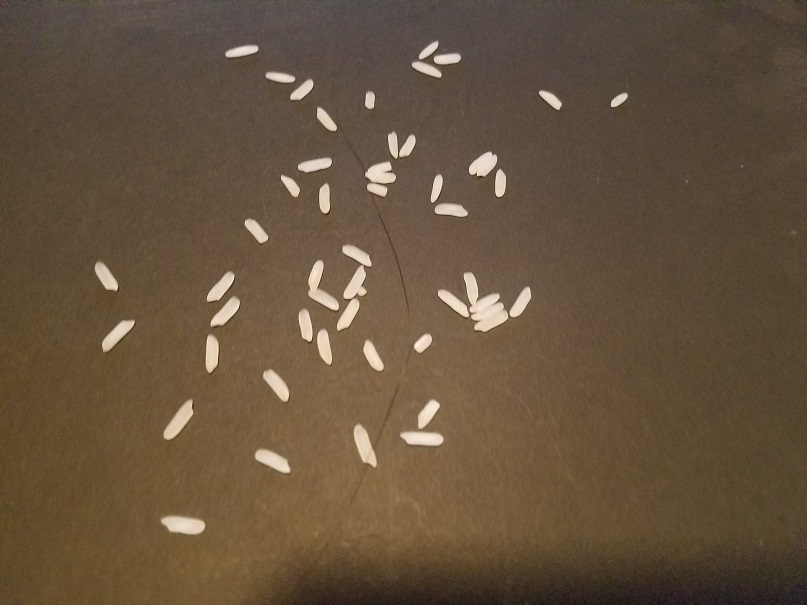egg: (164, 399, 197, 443), (351, 423, 381, 468), (205, 269, 239, 304), (101, 318, 136, 351), (209, 295, 242, 330), (436, 286, 470, 319), (254, 446, 294, 474), (261, 367, 292, 400), (413, 395, 442, 430), (334, 297, 361, 334), (338, 241, 375, 268), (472, 309, 509, 336), (92, 259, 122, 292), (358, 337, 387, 371), (163, 514, 209, 535), (398, 431, 449, 449), (306, 288, 341, 314), (509, 284, 536, 317), (342, 266, 369, 299), (468, 291, 503, 315), (465, 148, 496, 175), (471, 301, 508, 323), (243, 217, 273, 244), (316, 326, 336, 366), (313, 104, 339, 134), (297, 154, 333, 174), (409, 60, 445, 80), (461, 270, 482, 304), (289, 76, 315, 103), (394, 131, 421, 157), (538, 88, 565, 113), (433, 202, 470, 220), (306, 258, 326, 291), (295, 306, 313, 342), (224, 41, 260, 59), (476, 152, 501, 177), (279, 172, 303, 198), (204, 335, 220, 372), (429, 171, 445, 206), (416, 37, 441, 59), (493, 167, 509, 199), (318, 181, 333, 215), (412, 330, 432, 355), (263, 70, 296, 84), (365, 171, 401, 183), (434, 50, 462, 65), (366, 157, 392, 173), (365, 182, 388, 198), (387, 129, 399, 159), (611, 92, 630, 110), (364, 90, 376, 109), (358, 285, 369, 298)
